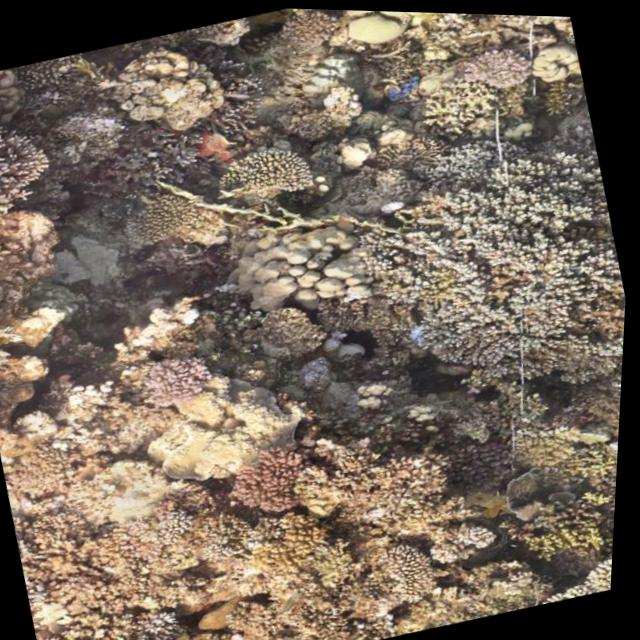Bleached Coral: (382, 112, 636, 389), (125, 280, 223, 357), (55, 366, 134, 426), (298, 346, 357, 410), (122, 599, 208, 640)
Healthy Coral: (223, 396, 545, 640), (462, 35, 535, 100)
